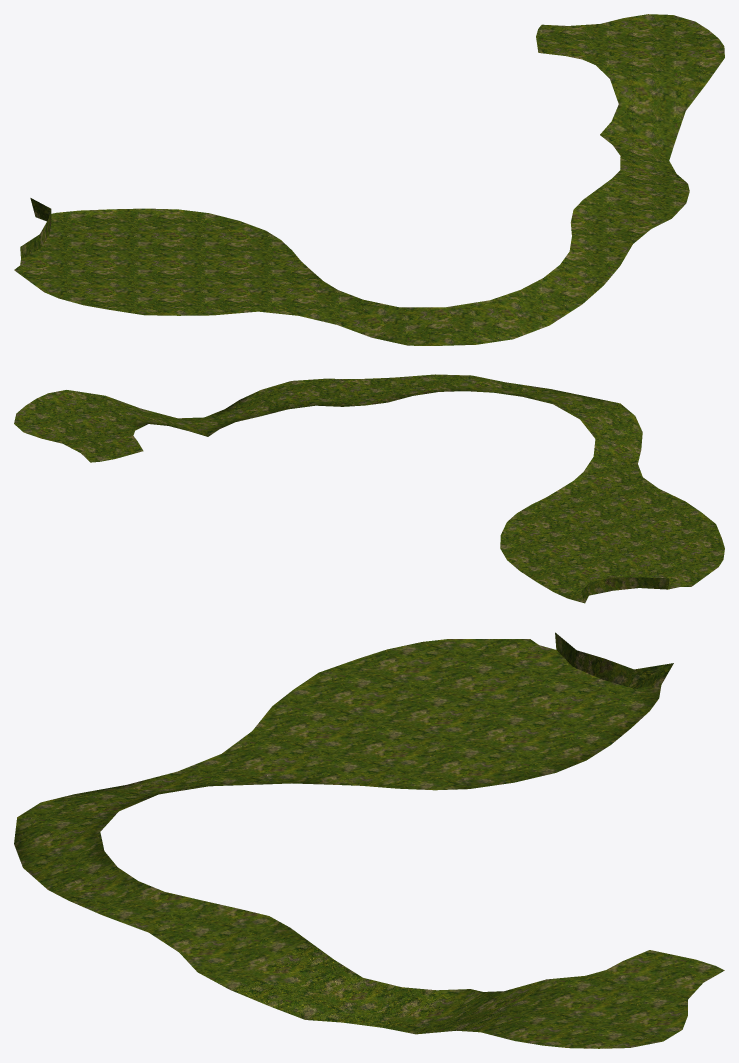
File: OVERHILL_A_01_OH_B_OBJECT50.fbx
3 views of the same model, one above another, from view 1: azimuth 30°, elevation 25°; view 2: azimuth 150°, elevation 25°; view 3: azimuth 270°, elevation 25° (orthographic). The views are drawn at different scales.
Parts seen in each view (by area): view 1: OVERHILL_A_01_OH_B_OBJECT50; view 2: OVERHILL_A_01_OH_B_OBJECT50; view 3: OVERHILL_A_01_OH_B_OBJECT50.
Boxes of the visible parts, x1,y1,x2,y2 form: OVERHILL_A_01_OH_B_OBJECT50: (14,14,724,345); OVERHILL_A_01_OH_B_OBJECT50: (14,374,724,603); OVERHILL_A_01_OH_B_OBJECT50: (14,632,724,1048).
Size of the model in its own units: 317308 by 22570 by 202275.
2 materials, 2 textured.
